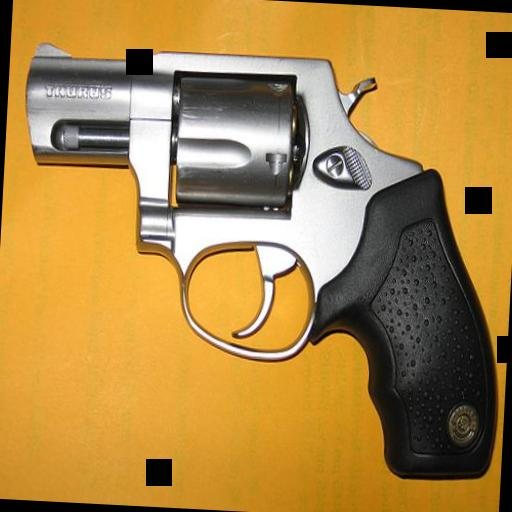Handgun: (5, 37, 512, 480)
